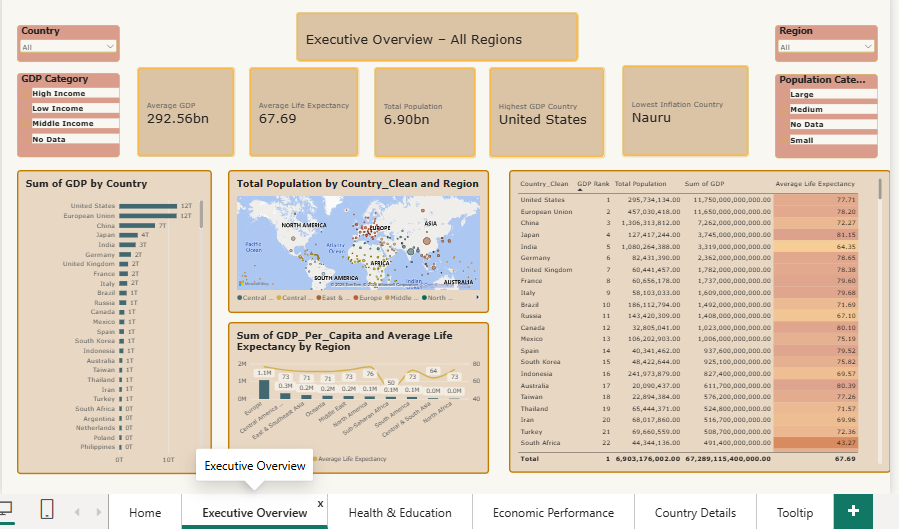

The page's visual inventory and layout, read from the dashboard file:
{"tool":"powerbi","page":{"name":"Executive Overview","canvas":[1920,1080],"ordinal":1},"visuals":[{"type":"slicer","fields":{"Values":["Country_Data.Region"]},"box":[1669.4,66.7,221.7,80],"z":0},{"type":"slicer","fields":{"Values":["Country_Data.Country_Clean"]},"box":[31.7,66.7,221.7,80],"z":1000},{"type":"slicer","fields":{"Values":["Country_Data.GDP Category"]},"box":[31.7,171.7,221.7,181.7],"z":2000},{"type":"cardVisual","fields":{"Data":["Country_Data.Average GDP"]},"box":[291.6,157.7,211.7,194.4],"z":3000},{"type":"cardVisual","fields":{"Data":["Country_Data.Average Life Expectancy"]},"box":[533.5,157.7,237.6,194.4],"z":4000},{"type":"cardVisual","fields":{"Data":["Country_Data.Total Population"]},"box":[803.5,157.7,220.3,196.6],"z":5000},{"type":"cardVisual","fields":{"Data":["Country_Data.Highest GDP Country"]},"box":[1051.9,157.7,250.6,196.6],"z":6000},{"type":"cardVisual","fields":{"Data":["Country_Data.Lowest Inflation Country"]},"box":[1339.2,153.4,274.3,198.7],"z":7000},{"type":"slicer","fields":{"Values":["Country_Data.Population Category"]},"box":[1669.4,172.2,222,182],"z":8000},{"type":"barChart","title":"Sum of GDP by Country","fields":{"Category":["Country_Data.Country_Clean"],"Y":["Sum(Country_Data.GDP)"]},"box":[32.4,380.2,421.2,656.6],"z":9000},{"type":"map","fields":{"Category":["Country_Data.Country_Clean"],"Series":["Country_Data.Region"],"Size":["Country_Data.Total Population"]},"box":[488.2,380.2,563.8,308.9],"z":10000},{"type":"lineClusteredColumnComboChart","fields":{"Category":["Country_Data.Region"],"Y":["Sum(Country_Data.GDP_Per_Capita)"],"Y2":["Country_Data.Average Life Expectancy"]},"box":[488.2,708.5,563.8,328.3],"z":11000},{"type":"tableEx","fields":{"Values":["Country_Data.Country_Clean","Country_Data.GDP Rank","Country_Data.Total Population","Sum(Country_Data.GDP)","Country_Data.Average Life Expectancy"]},"box":[1095.1,380.2,825.1,654.5],"z":12000},{"type":"cardVisual","fields":{"Data":["Country_Data.Title Overview"]},"box":[635.4,38.9,610.3,107.4],"z":13000}]}

Visuals, with their boxes in screenshot pixels (x1, y1, x2, y2):
slicer - Country_Data.Region: (771, 24, 873, 61)
slicer - Country_Data.Country_Clean: (15, 24, 117, 61)
slicer - Country_Data.GDP Category: (15, 72, 117, 156)
cardVisual - Country_Data.Average GDP: (135, 66, 232, 156)
cardVisual - Country_Data.Average Life Expectancy: (246, 66, 356, 156)
cardVisual - Country_Data.Total Population: (371, 66, 473, 157)
cardVisual - Country_Data.Highest GDP Country: (486, 66, 601, 157)
cardVisual - Country_Data.Lowest Inflation Country: (618, 64, 745, 156)
slicer - Country_Data.Population Category: (771, 72, 873, 157)
"Sum of GDP by Country" barChart: (15, 169, 209, 472)
map - Country_Data.Country_Clean x Country_Data.Region: (225, 169, 486, 311)
lineClusteredColumnComboChart - Country_Data.Region x Sum(Country_Data.GDP_Per_Capita): (225, 320, 486, 472)
tableEx - Country_Data.Country_Clean x Country_Data.GDP Rank: (506, 169, 887, 471)
cardVisual - Country_Data.Title Overview: (293, 11, 575, 61)
